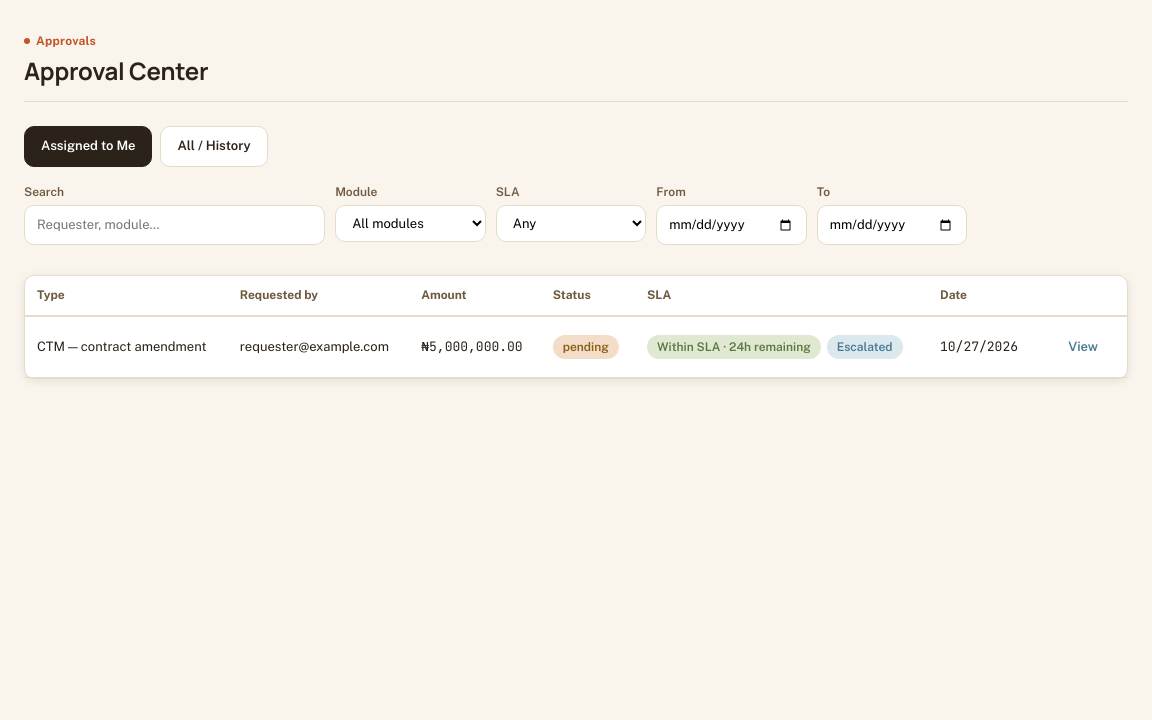
Scenario: ApprovalCenterPage › escalation › labels scheduler escalations as System (automatic), not a raw id
The image size is (1152, 720).
Expected: the text "requester@example.com" is shown, [228, 316, 409, 378]
Click the button "View". click: (1083, 347)
box: [1051, 327, 1115, 367]
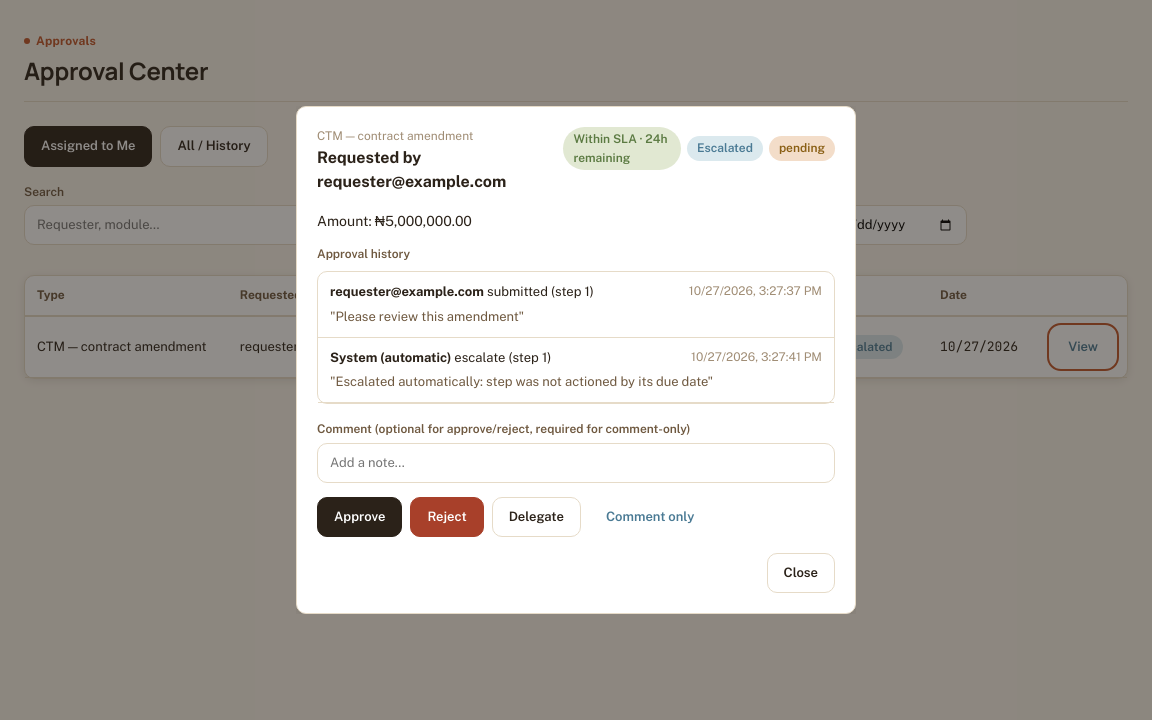
Expected: the button "Approve" is shown, [317, 497, 402, 537]
Expected: the text "System (automatic)" is shown, [330, 350, 451, 365]
